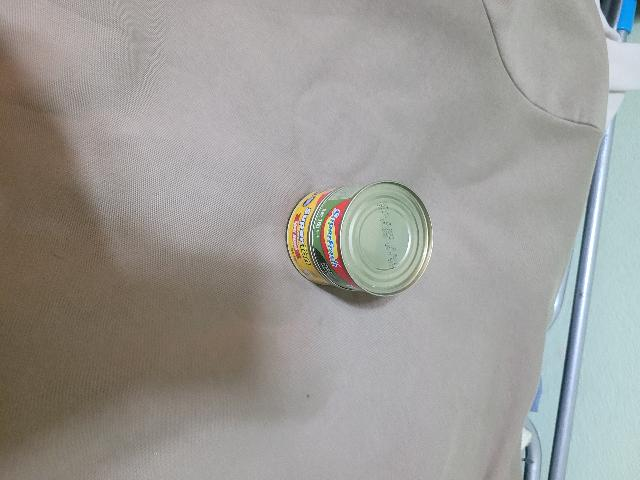Metal: (284, 183, 431, 301)
